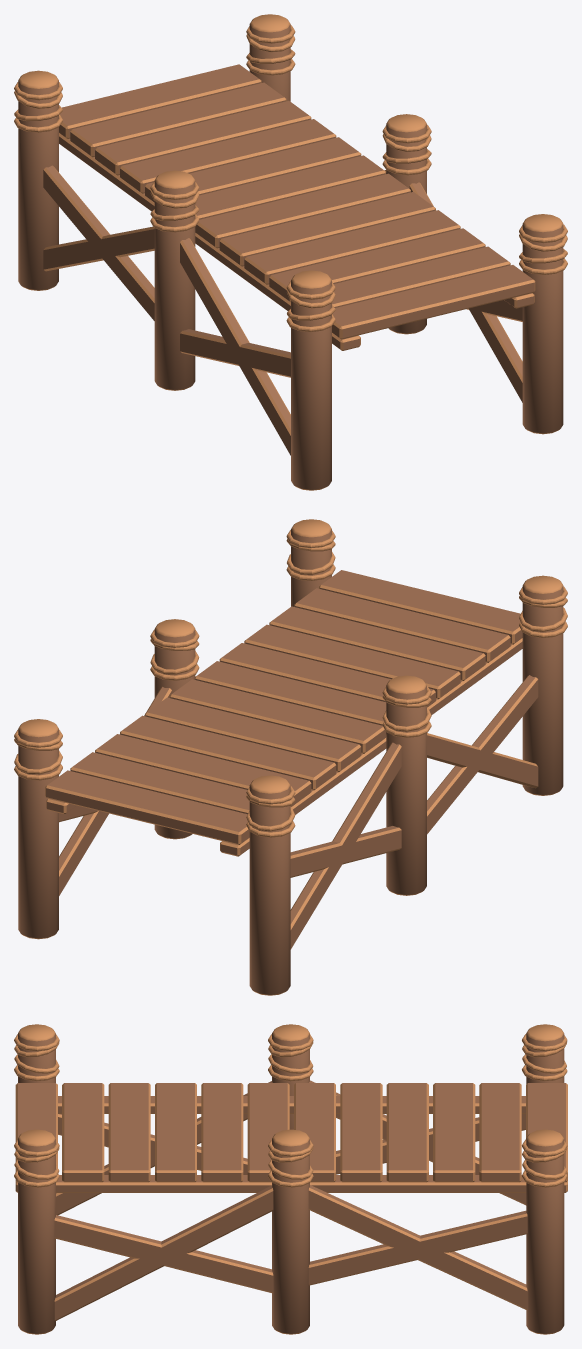
The model's file is Dock_crossbeams.fbx.
The picture shows the model from 3 angles, top to bottom: view 1: azimuth 30°, elevation 25°; view 2: azimuth 150°, elevation 25°; view 3: azimuth 270°, elevation 25°; orthographic projection. The views are drawn at different scales.
Parts seen in each view (by area): view 1: Dock crossbeams; view 2: Dock crossbeams; view 3: Dock crossbeams.
Part boxes in pixels (box(x1,y1,x2,y2)): Dock crossbeams: box(14, 14, 567, 490); Dock crossbeams: box(14, 519, 567, 995); Dock crossbeams: box(14, 1024, 567, 1334).
Bounding box in the file's own units: 280 × 200 × 526.
